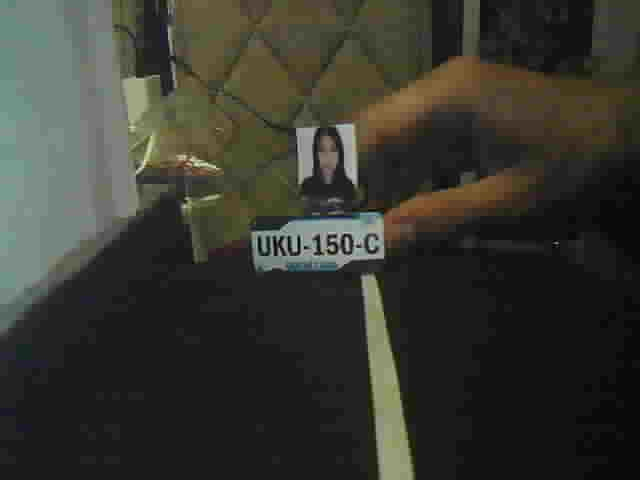PLACA: (248, 210, 386, 277)
ROSTRO: (299, 127, 359, 192)
